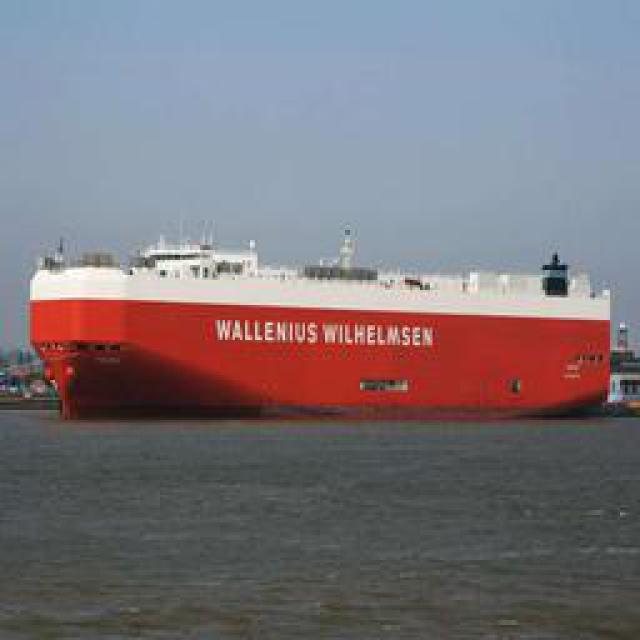Ship: (22, 217, 622, 420)
